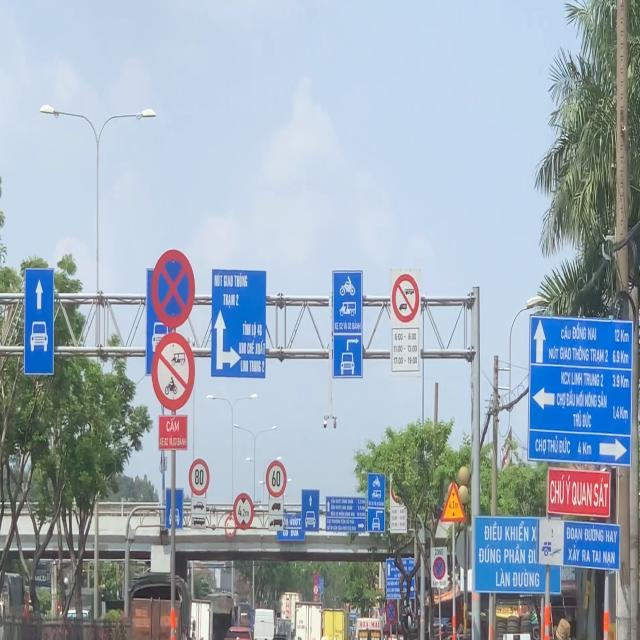Cam con lai: (150, 334, 196, 413), (390, 272, 421, 325)
Cam dung va do: (152, 249, 196, 328), (433, 556, 446, 580), (386, 600, 397, 624), (313, 572, 319, 585)
Chieu cao toi da: (233, 492, 254, 530)
Nguy hiem: (440, 480, 466, 522)
Toc do toi da: (188, 458, 210, 496), (266, 460, 286, 498)
